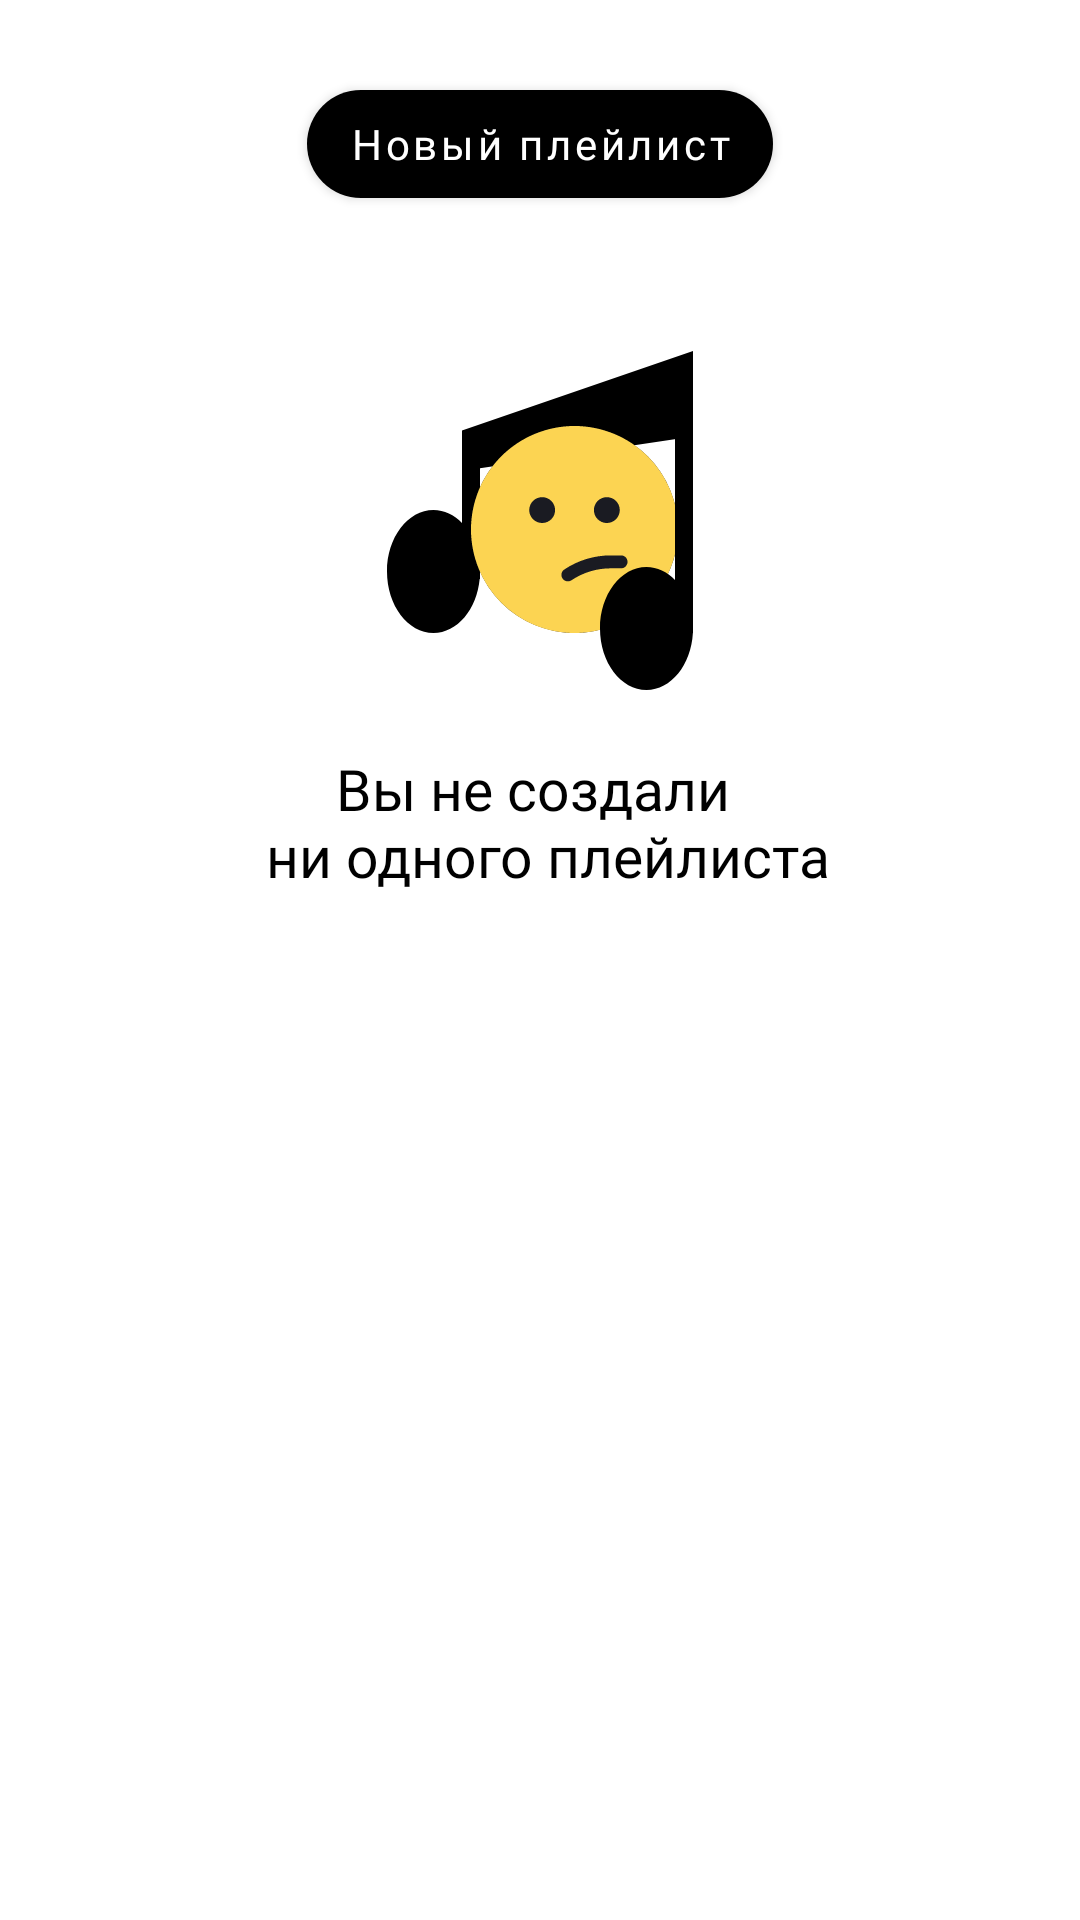

Named icons in this screenshot (1080×1920) and their centers, (x,y):
nothing found: (540,520)
